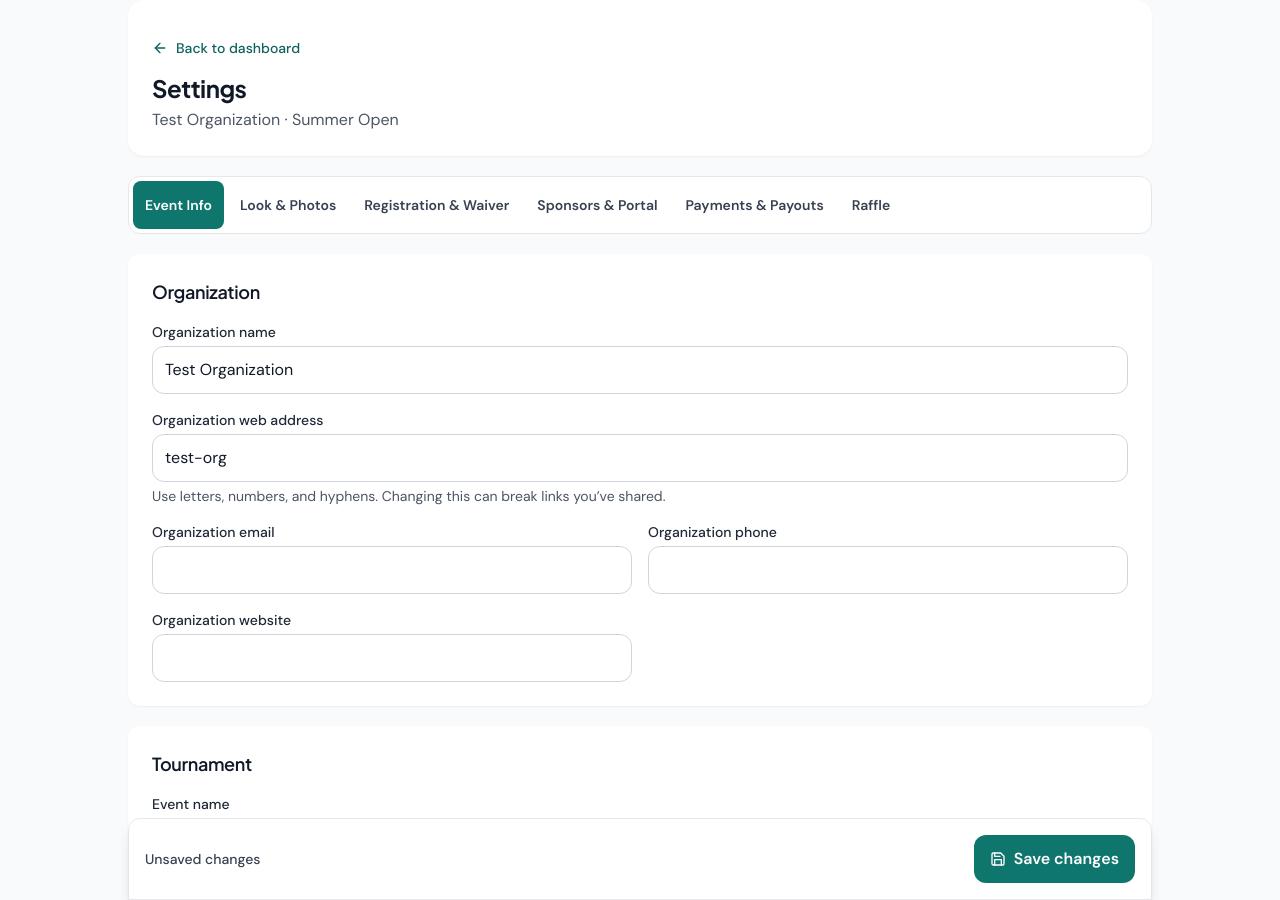
OrgSettingsPage › waits for the upload across tabs, then saves the uploaded story URL and previous edits
Earlier steps of the test are not shown.
Later steps or results of the test are not shown.
Check: the button "Save changes" is enabled, box [974,835,1135,883]
Click the tab "Look & Photos".
click(288, 205)  # box [228,181,348,229]
(page scrolled)
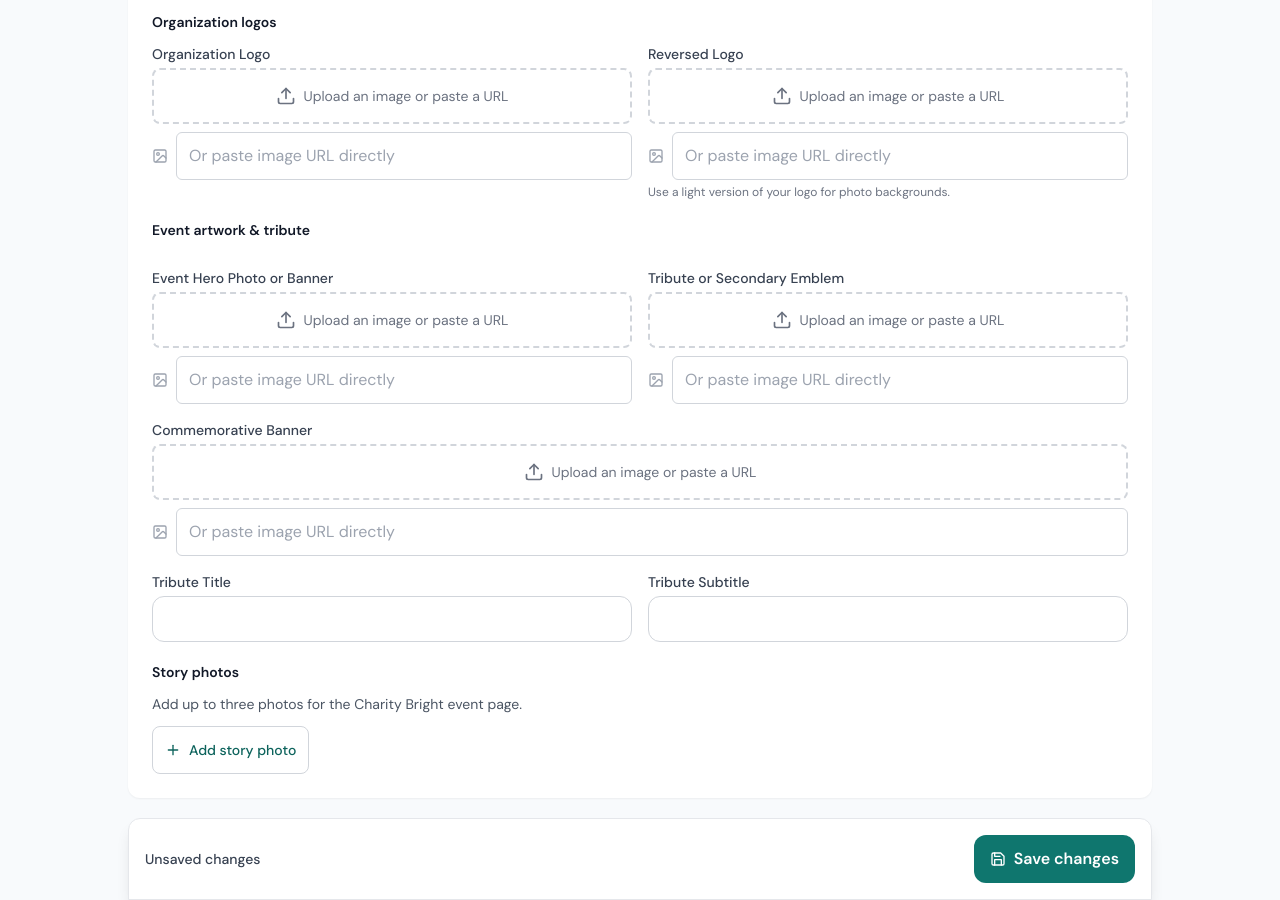
Click the button "Add story photo".
click(231, 750)  # box [152,726,309,774]
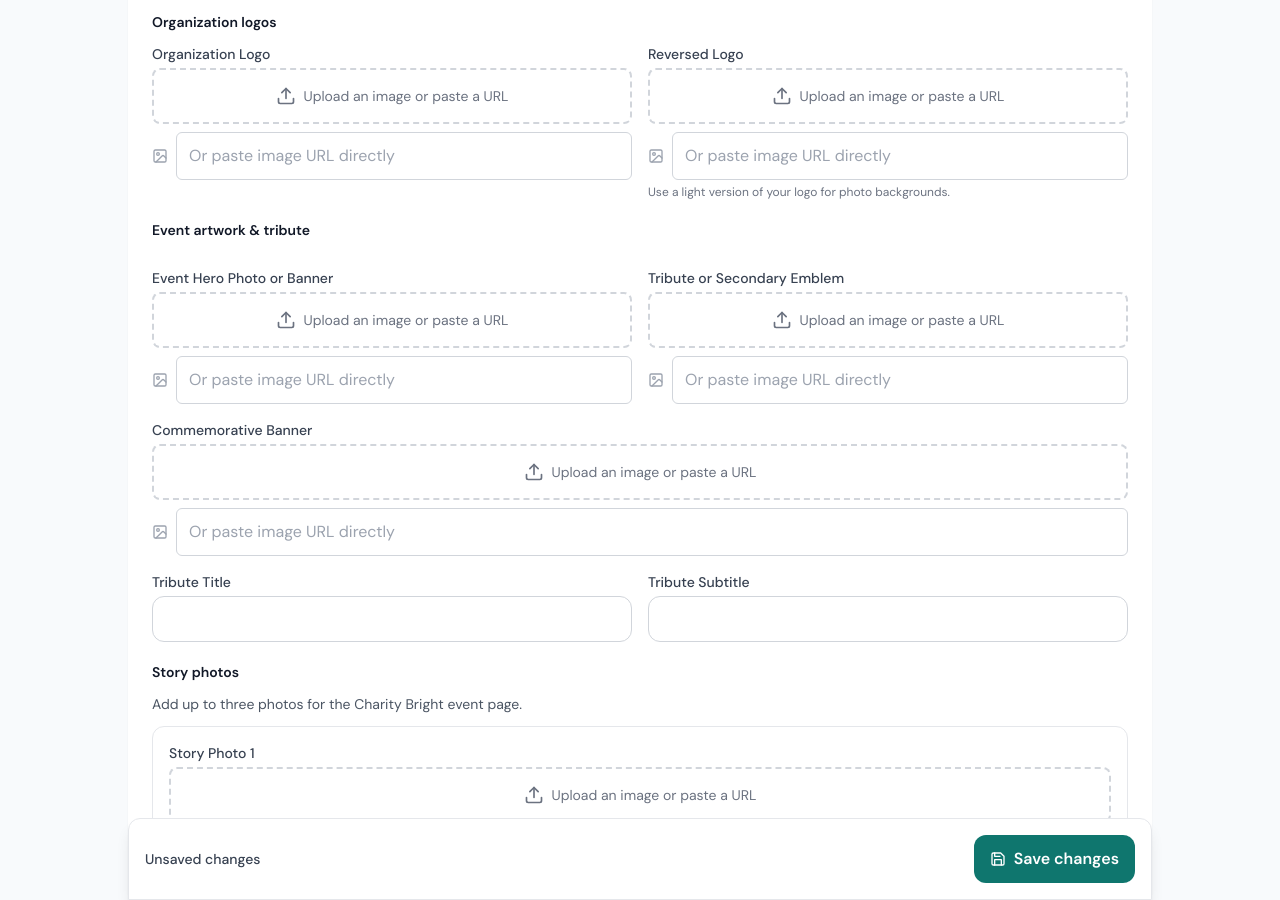
Check: the element showing "Story Photo 1 Upload an image or paste a URL" is shown, box [169,743,1111,879]
